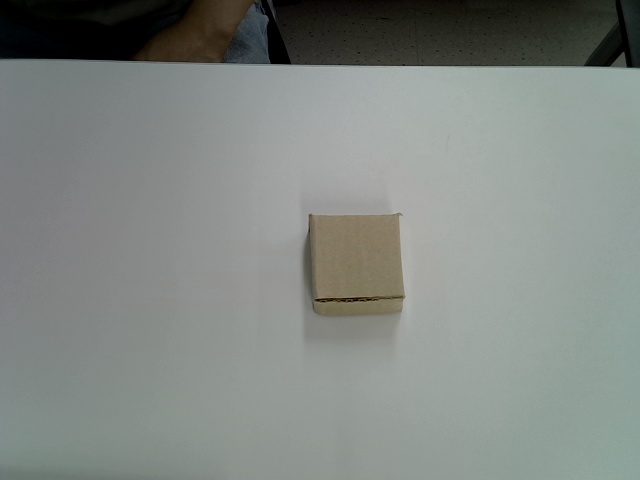normal: (307, 212, 406, 315)
